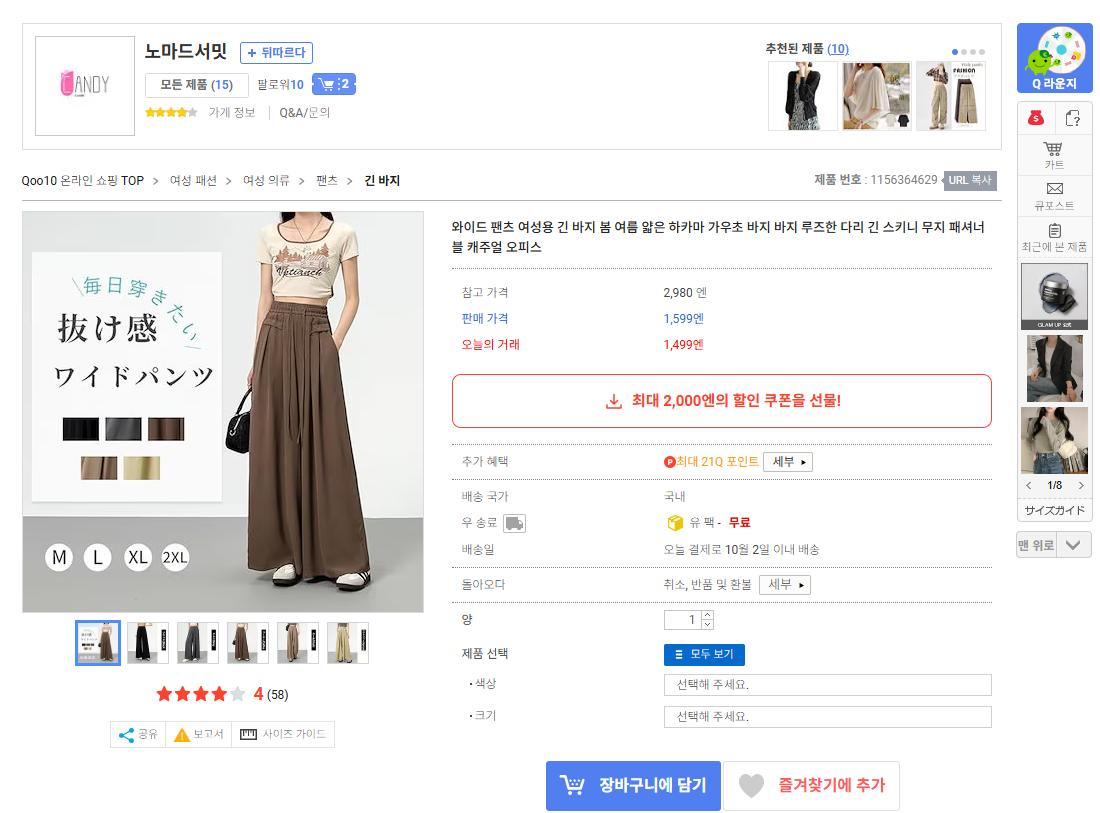button: (543, 756, 724, 813), (722, 760, 899, 813), (659, 674, 999, 700), (660, 705, 999, 731), (139, 65, 256, 103), (236, 718, 335, 752), (1020, 213, 1093, 255), (235, 33, 315, 66), (937, 165, 1007, 198), (199, 96, 266, 129), (1024, 176, 1091, 209), (658, 645, 754, 668), (1028, 137, 1086, 175), (756, 448, 823, 480), (326, 620, 371, 667), (1015, 532, 1093, 559), (227, 618, 270, 666), (169, 718, 228, 752), (76, 620, 119, 666), (756, 568, 820, 598), (304, 70, 366, 100), (126, 622, 168, 664), (110, 718, 163, 751), (279, 622, 318, 666), (276, 100, 339, 127), (179, 621, 218, 664), (1017, 101, 1056, 135), (1061, 101, 1095, 133), (1072, 476, 1091, 497), (1019, 478, 1037, 497)
checkbox: (654, 607, 728, 635)
popup: (436, 363, 1000, 432), (1016, 18, 1096, 91)
